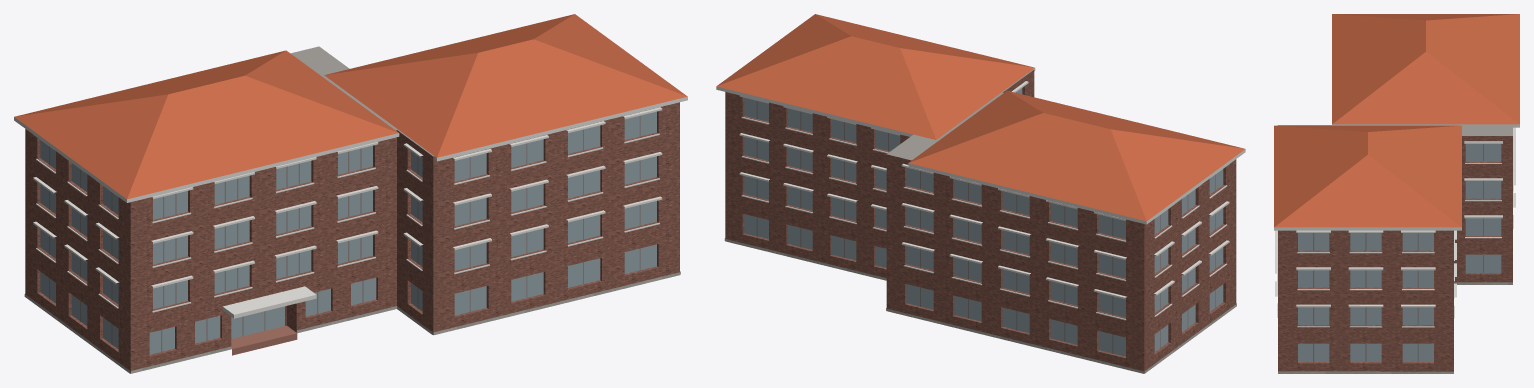
3 renders of one model, left to right at view 1: azimuth 30°, elevation 25°; view 2: azimuth 150°, elevation 25°; view 3: azimuth 270°, elevation 25°, orthographic. The views are drawn at different scales.
Visible parts, largest first — view 1: osm136187868__wall, osm136187868__roofAccent, osm136187868__glass, osm136187868__trim, osm136187868__frame, osm136187868__base, osm136187868__canopy, osm136187868__roof, osm136187868__entranceThreshold_0; view 2: osm136187868__wall, osm136187868__roofAccent, osm136187868__glass, osm136187868__trim, osm136187868__base, osm136187868__frame, osm136187868__roof; view 3: osm136187868__roofAccent, osm136187868__wall, osm136187868__glass, osm136187868__trim, osm136187868__roof, osm136187868__base, osm136187868__frame.
Part boxes in pixels (left/top/right/bottom): osm136187868__wall: left=25, top=102, right=679, bottom=373; osm136187868__roofAccent: left=14, top=14, right=687, bottom=199; osm136187868__glass: left=40, top=111, right=656, bottom=354; osm136187868__trim: left=14, top=96, right=687, bottom=312; osm136187868__frame: left=49, top=115, right=640, bottom=352; osm136187868__base: left=24, top=271, right=680, bottom=373; osm136187868__canopy: left=222, top=286, right=316, bottom=318; osm136187868__roof: left=130, top=46, right=434, bottom=373; osm136187868__entranceThreshold_0: left=231, top=325, right=297, bottom=355; osm136187868__wall: left=725, top=70, right=1236, bottom=373; osm136187868__roofAccent: left=716, top=14, right=1244, bottom=221; osm136187868__glass: left=744, top=88, right=1223, bottom=356; osm136187868__trim: left=716, top=68, right=1245, bottom=320; osm136187868__base: left=724, top=238, right=1236, bottom=373; osm136187868__frame: left=756, top=92, right=1215, bottom=353; osm136187868__roof: left=887, top=69, right=1033, bottom=160; osm136187868__roofAccent: left=1274, top=14, right=1519, bottom=227; osm136187868__wall: left=1278, top=136, right=1512, bottom=371; osm136187868__glass: left=1298, top=144, right=1501, bottom=361; osm136187868__trim: left=1274, top=124, right=1519, bottom=327; osm136187868__roof: left=1277, top=124, right=1512, bottom=135; osm136187868__base: left=1278, top=282, right=1512, bottom=373; osm136187868__frame: left=1313, top=144, right=1483, bottom=362.
Size of the model in its own units: 36.99 by 15.08 by 18.
Materials: 10 (2 with a texture image).
